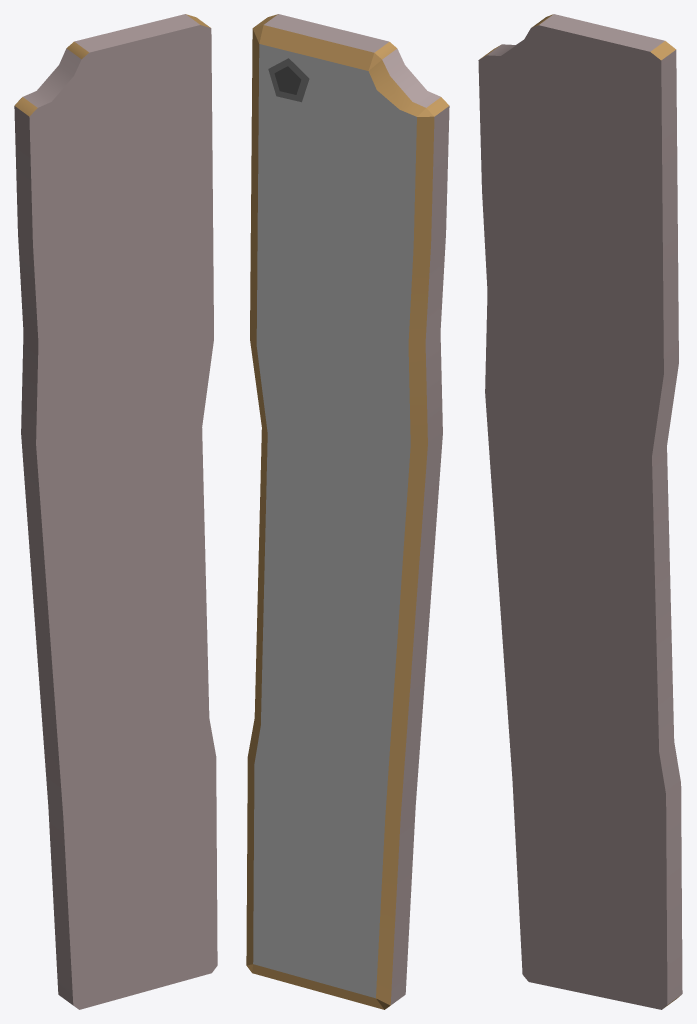
File: WoodBoardD.fbx
3 views of the same model, side by side, from view 1: azimuth 30°, elevation 25°; view 2: azimuth 150°, elevation 25°; view 3: azimuth 330°, elevation 25° (orthographic).
Visible parts, largest first — view 1: WoodBoardD; view 2: WoodBoardD; view 3: WoodBoardD.
Boxes of the visible parts, x1,y1,x2,y2 form: WoodBoardD: (14,14,217,1009); WoodBoardD: (246,14,449,1009); WoodBoardD: (478,14,682,1009).
Bounding box in the file's own units: 76.5 × 371 × 14.97.
